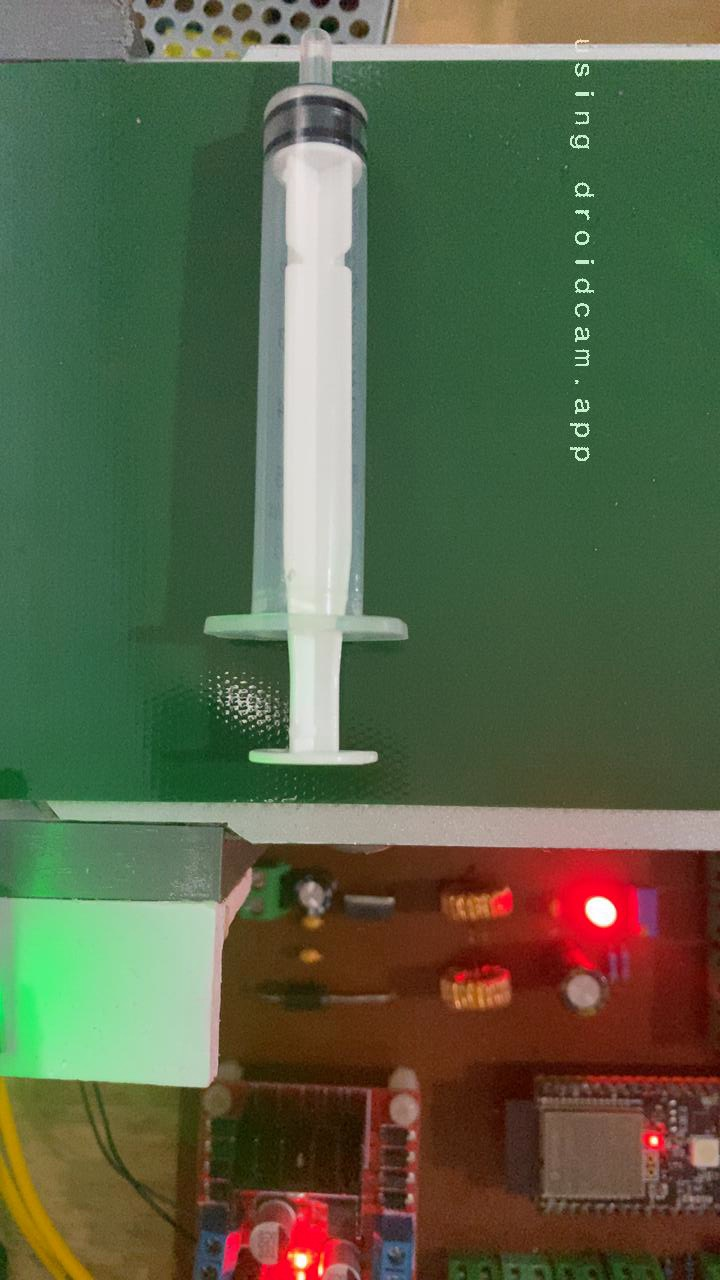syringe: (254, 60, 415, 773)
